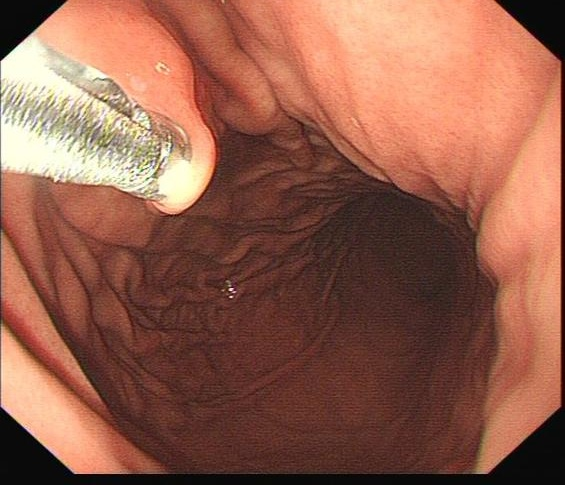Polyp: (139, 113, 240, 218)
